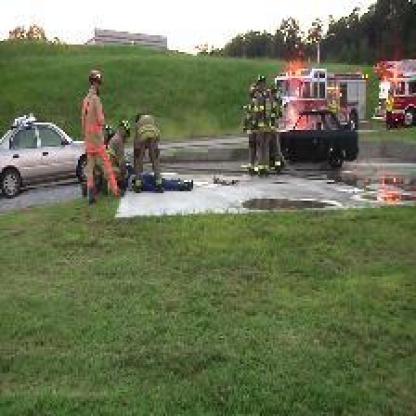other: (370, 54, 413, 80), (282, 51, 304, 90)
